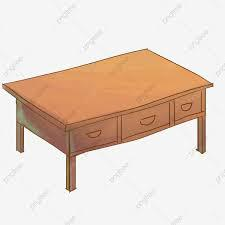desk: (4, 38, 217, 201)
